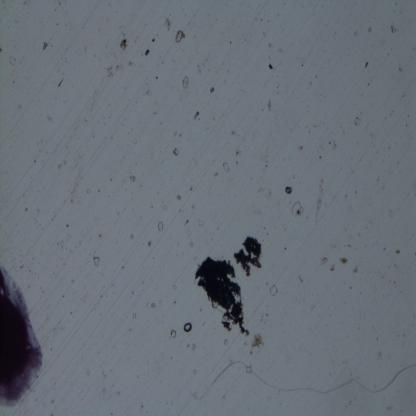Air bubble: (183, 322, 193, 333)
Background material: (192, 358, 416, 393), (224, 302, 251, 336), (313, 176, 326, 224), (248, 332, 264, 357), (290, 200, 306, 216), (174, 29, 188, 44), (180, 77, 191, 91), (118, 38, 128, 51), (91, 254, 101, 266), (164, 18, 172, 32), (53, 0, 64, 10), (283, 185, 293, 196), (391, 22, 400, 34), (193, 110, 200, 124), (339, 257, 351, 265), (100, 368, 108, 380), (107, 65, 114, 78), (329, 140, 339, 149), (319, 256, 328, 266), (40, 40, 48, 51), (56, 77, 64, 88), (182, 216, 191, 225), (172, 146, 180, 156), (58, 160, 66, 169), (353, 116, 361, 125), (144, 48, 151, 58), (245, 366, 253, 374), (84, 368, 92, 376), (144, 89, 152, 97), (364, 60, 370, 70), (197, 62, 202, 74), (388, 208, 394, 218), (261, 316, 269, 323), (352, 265, 358, 274), (129, 172, 135, 181), (267, 97, 271, 110), (210, 84, 215, 94), (387, 404, 394, 411), (128, 233, 135, 240), (331, 264, 337, 272), (115, 64, 123, 70), (212, 170, 218, 178), (260, 30, 266, 38), (171, 329, 176, 338), (22, 0, 29, 6), (223, 337, 228, 345), (298, 273, 302, 283), (367, 25, 372, 33), (192, 366, 197, 374), (348, 398, 353, 406), (48, 114, 53, 122), (298, 145, 304, 151), (192, 342, 196, 351), (160, 59, 166, 65), (190, 239, 194, 248), (347, 242, 352, 249), (268, 63, 273, 70), (233, 152, 240, 157), (127, 60, 134, 65), (378, 350, 383, 357), (229, 358, 233, 366), (86, 187, 90, 195), (396, 249, 401, 255), (369, 132, 374, 138), (68, 248, 73, 254), (20, 264, 25, 270), (147, 240, 152, 246), (97, 233, 102, 238), (130, 290, 135, 295), (151, 38, 156, 43), (65, 223, 70, 228), (150, 303, 155, 308), (392, 262, 396, 268), (177, 195, 181, 201), (268, 44, 274, 48), (0, 46, 3, 53), (349, 285, 353, 290), (71, 197, 75, 202), (284, 246, 288, 251), (228, 40, 232, 45), (178, 132, 182, 137), (18, 103, 22, 108), (179, 208, 182, 214), (174, 299, 177, 305), (121, 264, 124, 270), (24, 208, 28, 212), (84, 118, 88, 122), (366, 82, 370, 86), (62, 294, 66, 298), (232, 132, 236, 136), (154, 75, 158, 79), (405, 122, 408, 127), (190, 186, 193, 191), (38, 149, 42, 152), (33, 159, 36, 163), (393, 280, 395, 286), (100, 294, 103, 298), (300, 64, 304, 67), (12, 80, 15, 84), (400, 66, 402, 71), (308, 82, 312, 84), (51, 347, 53, 351), (316, 75, 318, 79), (319, 156, 321, 159), (110, 178, 112, 181), (98, 190, 100, 193), (153, 112, 156, 114), (408, 114, 409, 117)
Fragment: (190, 254, 241, 312), (235, 236, 264, 270)
Pen: (0, 263, 47, 409)
